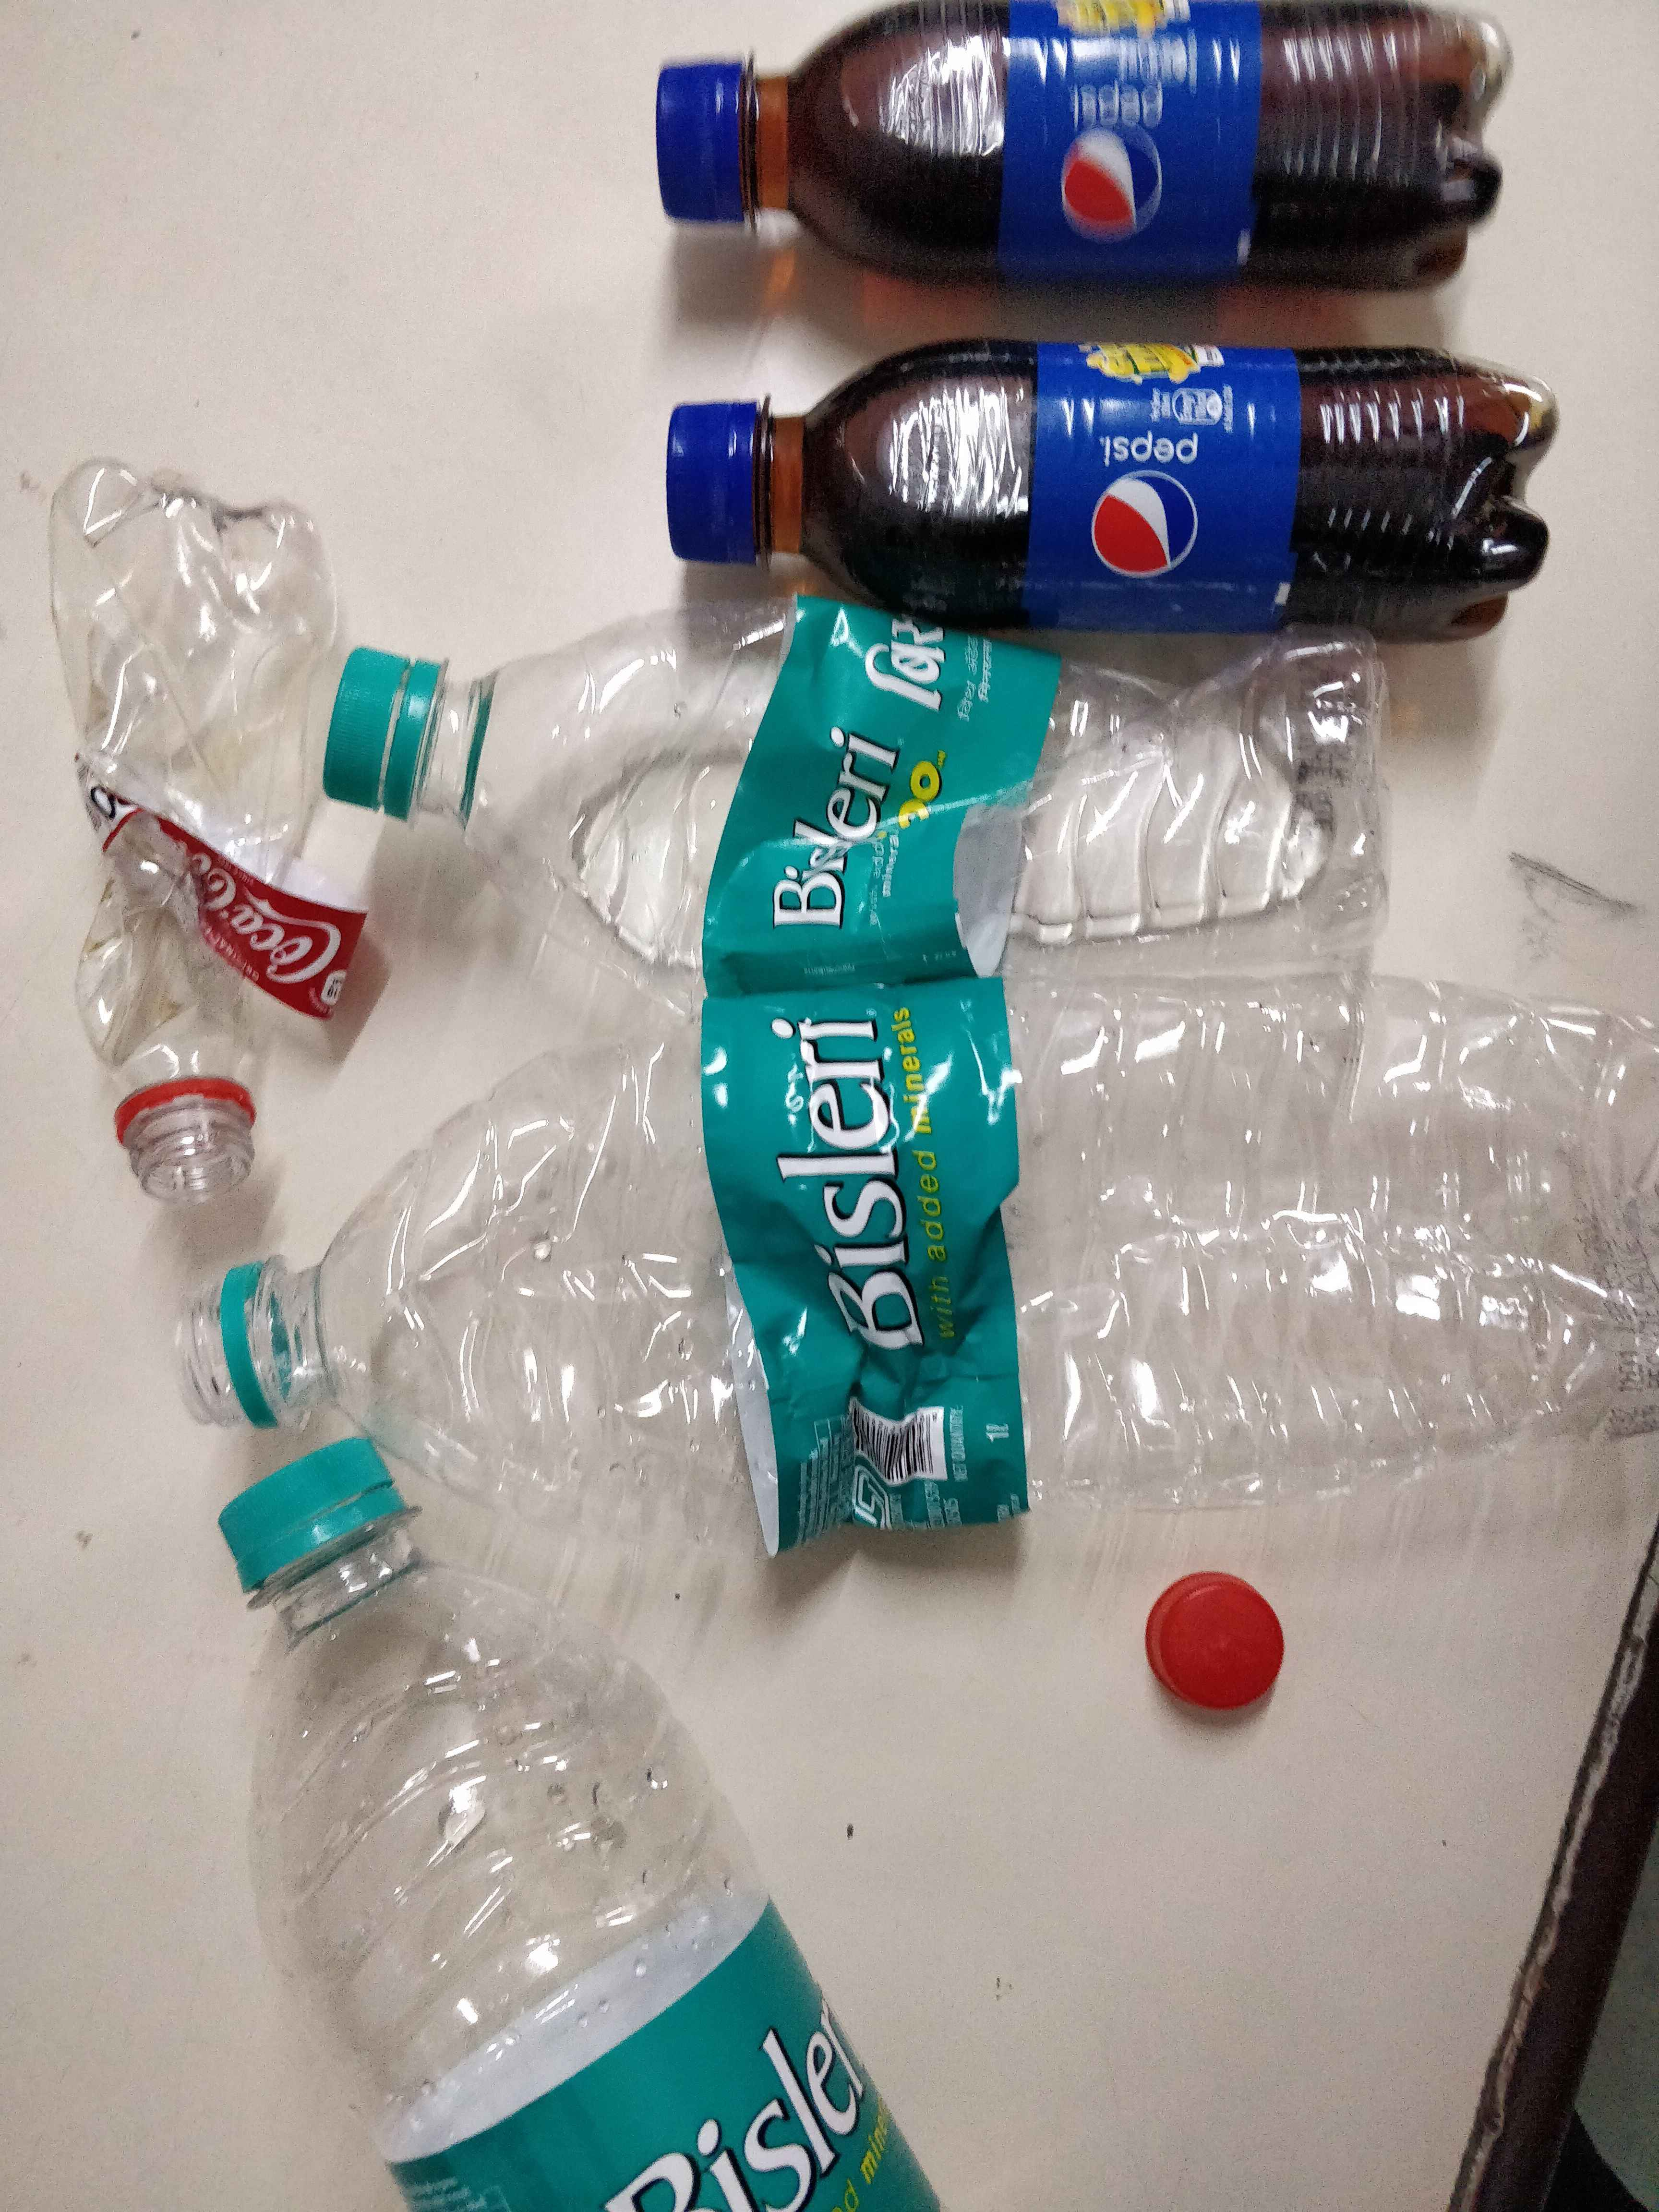Bisleri: (751, 995, 1032, 1543), (784, 606, 978, 977), (568, 2005, 911, 2195)
Coca-Cola: (1025, 0, 1216, 270), (1056, 354, 1227, 580), (153, 853, 350, 1029)
